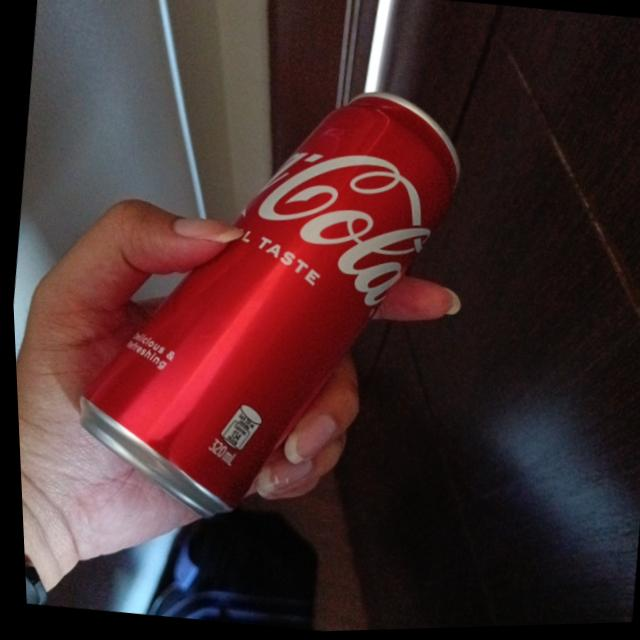coke: (53, 62, 477, 547)
